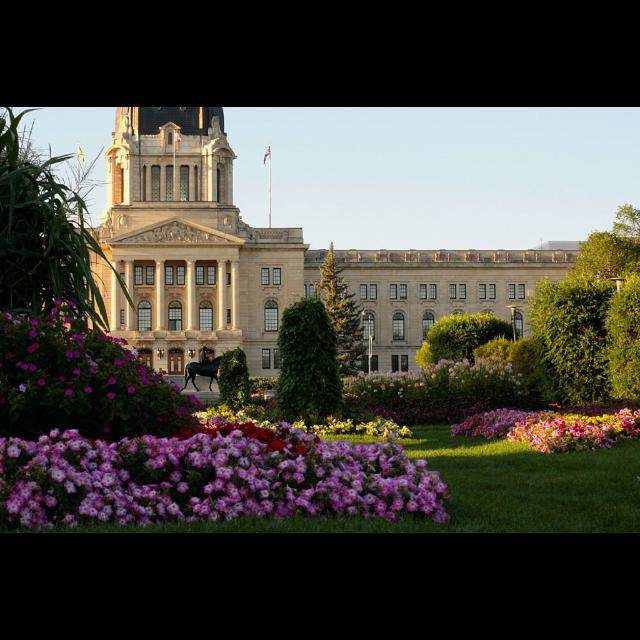Flower: (0, 296, 410, 438), (0, 418, 454, 532), (341, 352, 639, 460)
